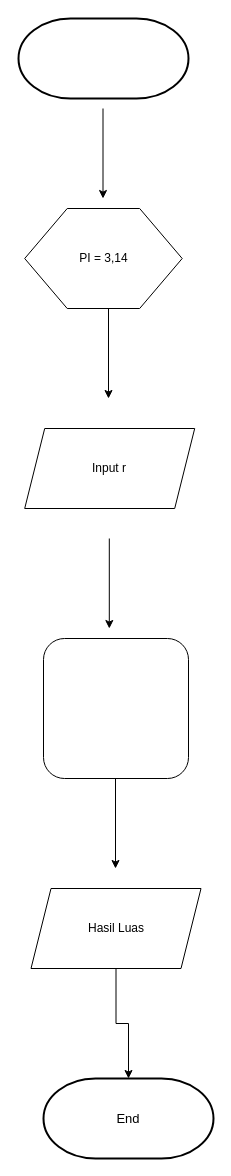
The diagram is 231 pixels wide and 1176 high, and some of its shapes have lost their labels. Each missing label, with the centre of its shape:
"L = PI*r^2" goes at (x=115, y=708).
"Start" goes at (x=103, y=58).
